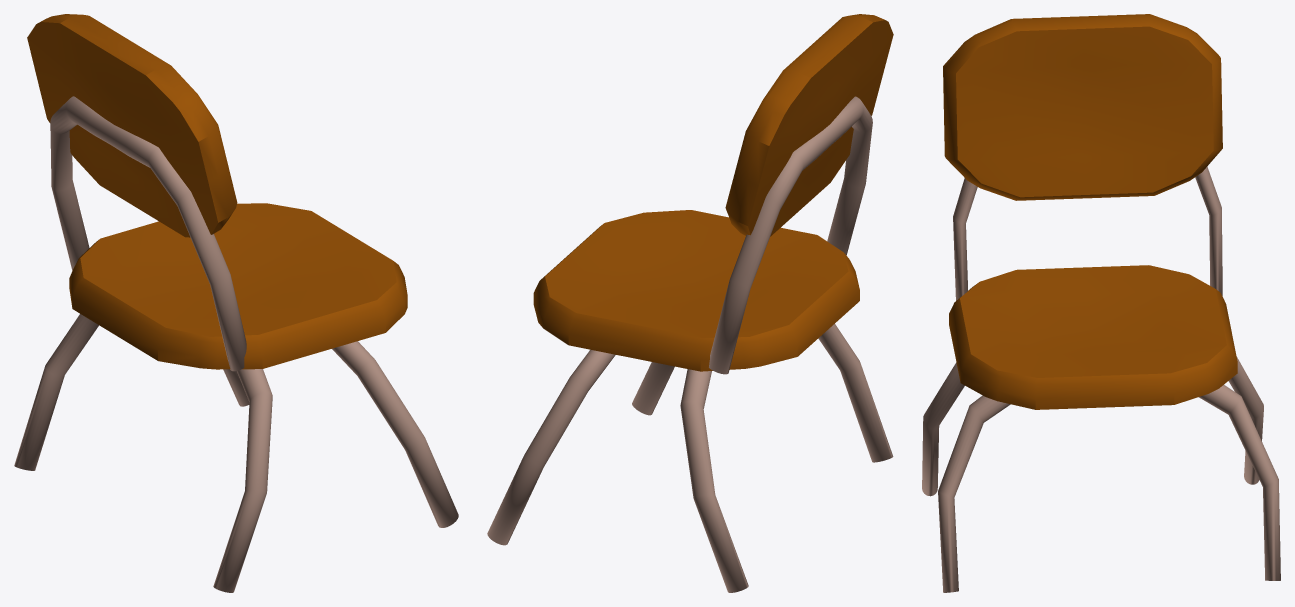
The model's file is Kitchen Chair MM.fbx.
3 renders of one model, left to right at view 1: azimuth 30°, elevation 25°; view 2: azimuth 150°, elevation 25°; view 3: azimuth 270°, elevation 25°, orthographic. The views are drawn at different scales.
Parts seen in each view (by area): view 1: pCube149, pCube150, pCylinder45, pCylinder44, pCylinder43; view 2: pCube149, pCube150, pCylinder45, pCylinder44, pCylinder43; view 3: pCube150, pCube149, pCylinder43, pCylinder44, pCylinder45.
Boxes of the visible parts, x1=… form: pCube149: x1=69, y1=203, x2=407, y2=369; pCube150: x1=27, y1=14, x2=237, y2=237; pCylinder45: x1=50, y1=96, x2=246, y2=371; pCylinder44: x1=14, y1=314, x2=272, y2=592; pCylinder43: x1=223, y1=341, x2=458, y2=527; pCube149: x1=533, y1=210, x2=859, y2=371; pCube150: x1=725, y1=14, x2=893, y2=236; pCylinder45: x1=709, y1=96, x2=872, y2=374; pCylinder44: x1=680, y1=324, x2=893, y2=592; pCylinder43: x1=487, y1=349, x2=674, y2=545; pCube150: x1=943, y1=14, x2=1222, y2=200; pCube149: x1=949, y1=265, x2=1237, y2=409; pCylinder43: x1=938, y1=385, x2=1280, y2=592; pCylinder44: x1=922, y1=357, x2=1263, y2=496; pCylinder45: x1=953, y1=166, x2=1222, y2=300.
Bounding box in the file's own units: 0.5605 × 0.9157 × 0.6474.
